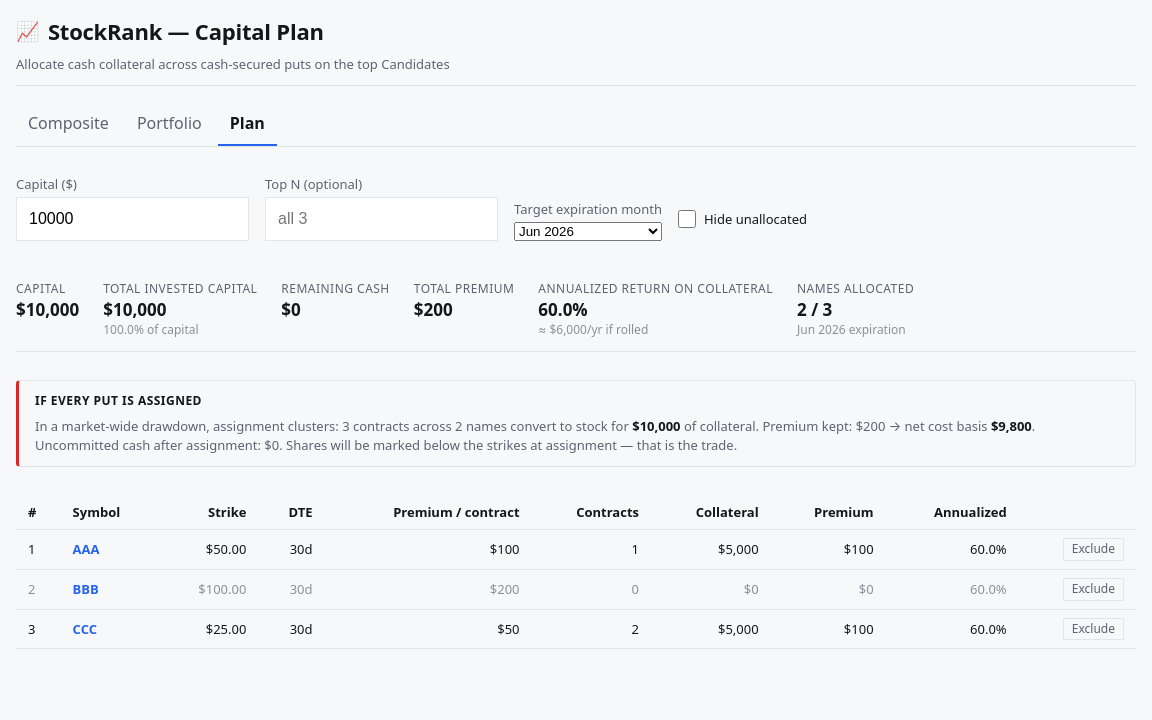
Test: <CapitalPlanScreen /> › exposes a per-row Exclude button that zeroes that name's contracts and reallocates
Step 1. Replace the text in the number field named "capital available" with "30000" → (132, 219), box [16,197,249,241]
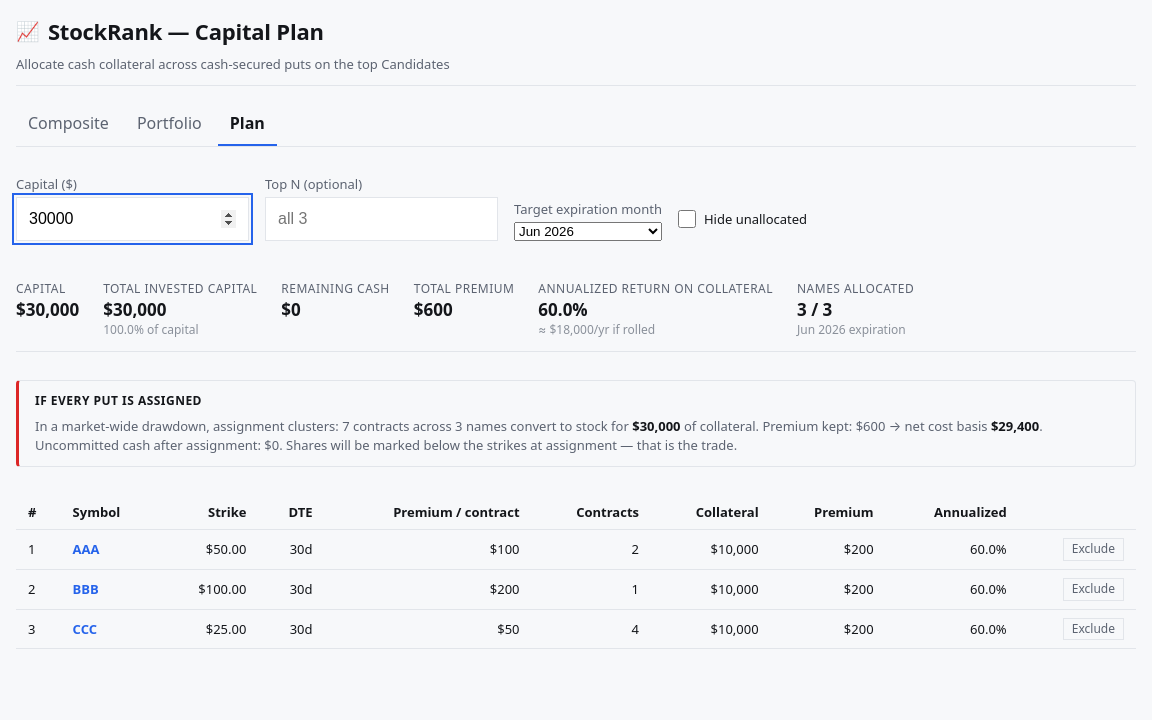
Now the cell "1" in the row of "$100.00" is shown, box [632,580,639,598]
// Click the Exclude button on the BBB row.
Step 2. Click the button "Exclude" in the row of "$100.00" → (1093, 589), box [1063,578,1124,600]
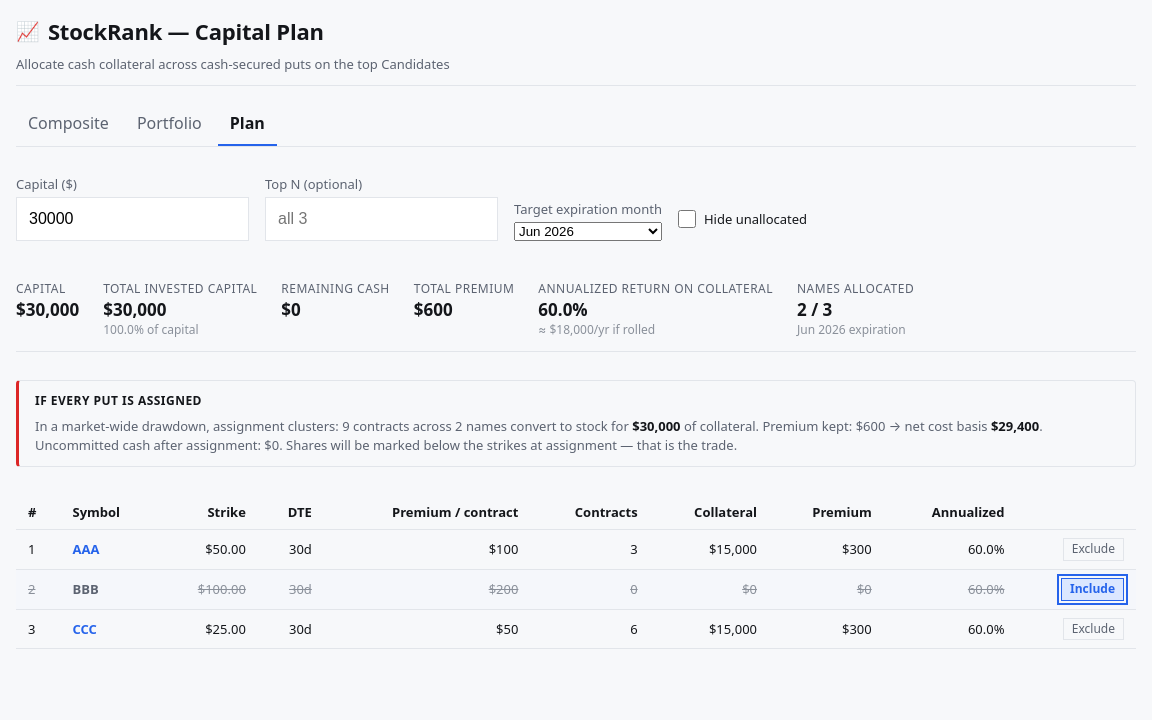
Now the cell "0" is shown, box [530,569,650,609]
Now the cell "3" in the row of "$50.00" is shown, box [630,540,638,558]
Now the cell "6" is shown, box [530,609,650,649]
